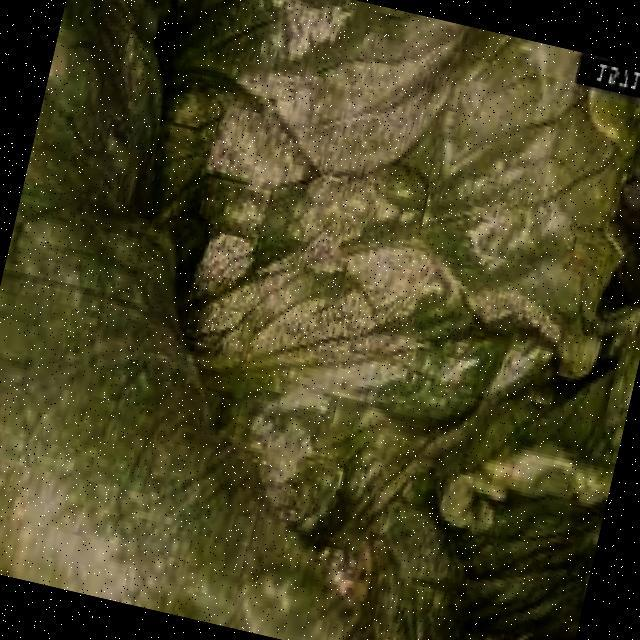Downy_Mildew: (172, 25, 604, 434)
